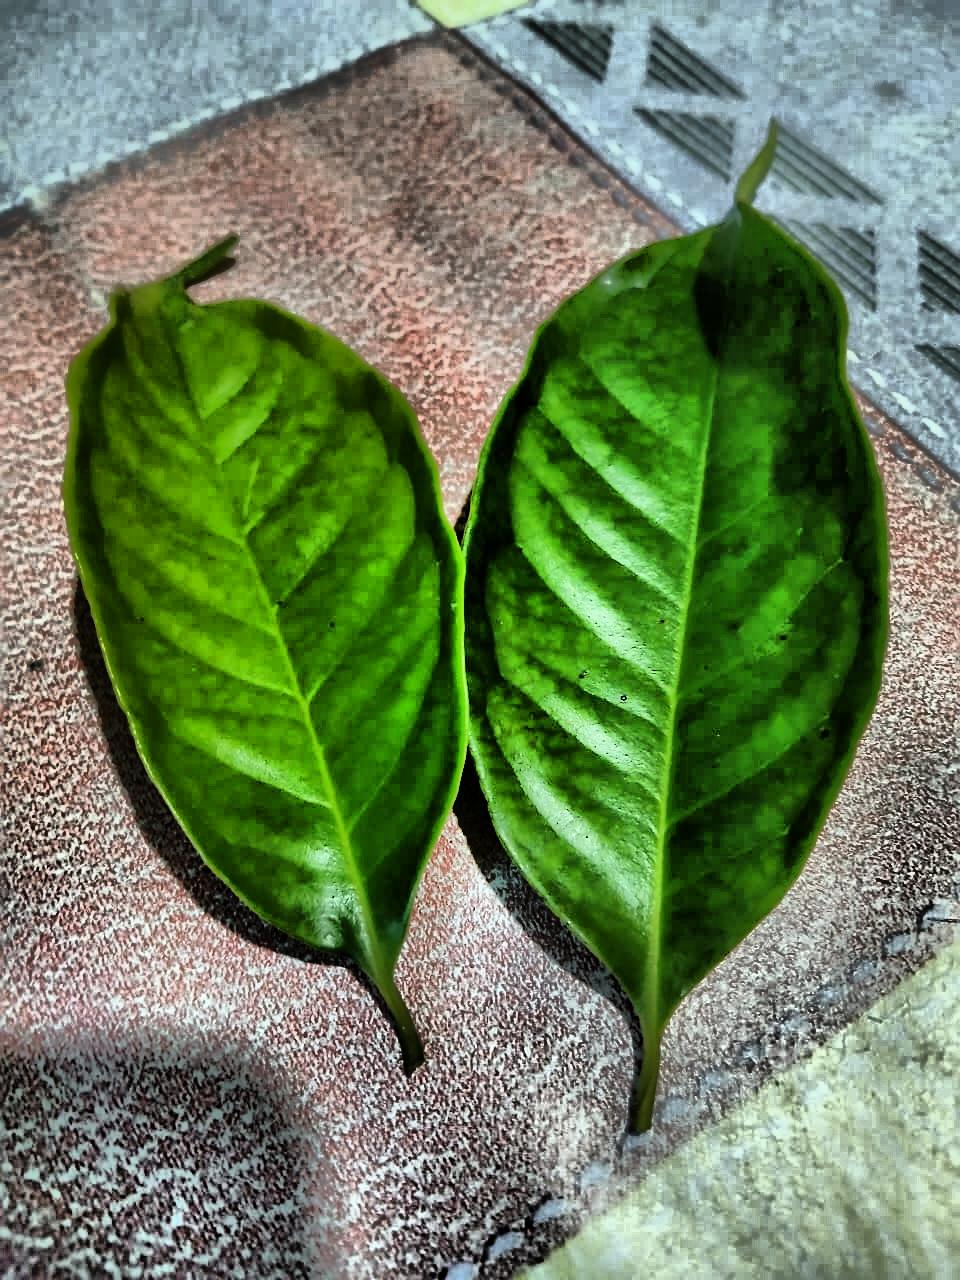daun salam: (466, 144, 886, 1126), (65, 240, 466, 1066)
